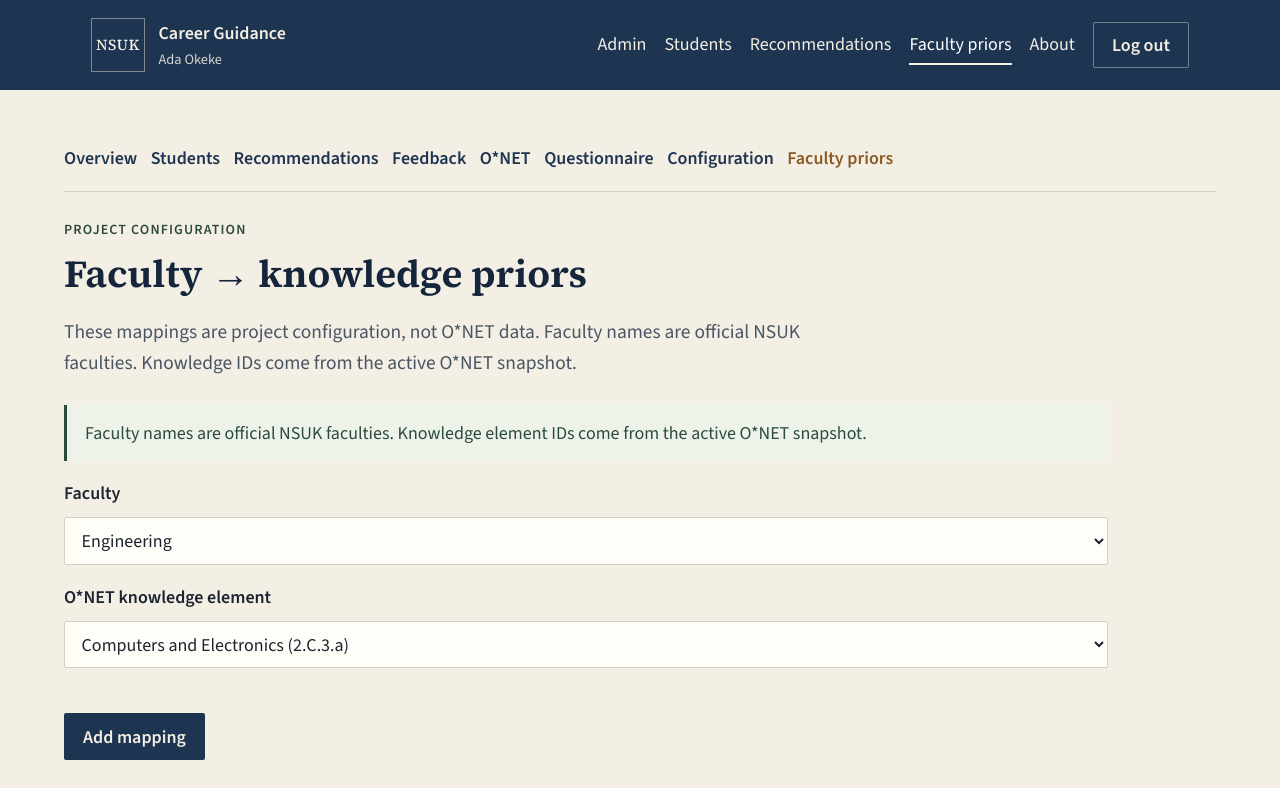
Test case: adds a faculty knowledge mapping from official catalog values
Expected: the heading "Faculty → knowledge priors" is shown, [64, 247, 587, 300]
Select "Natural and Applied Sciences" in the dropdown labelled "Faculty" at (586, 541), box [64, 517, 1108, 565]
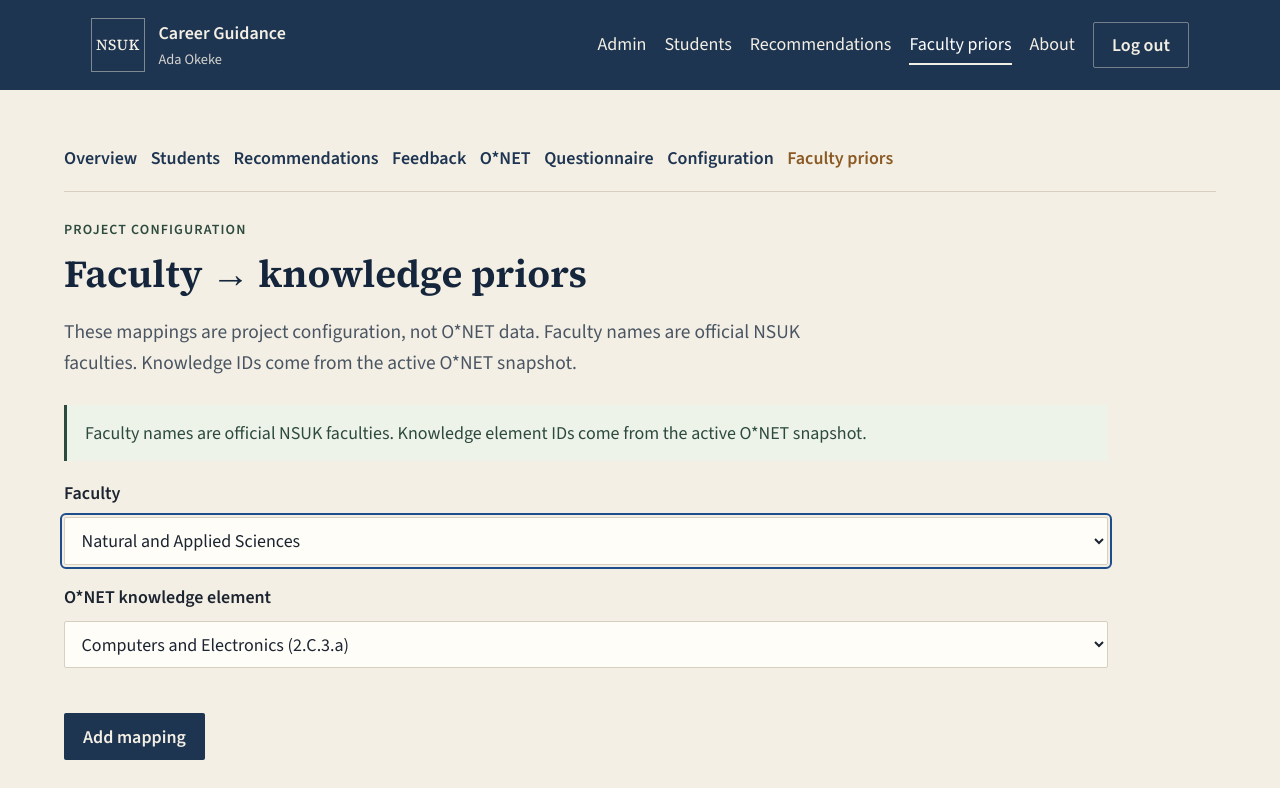
Select "Computers and Electronics (2.C.3.a)" in the dropdown labelled "O*NET knowledge element" at (586, 644), box [64, 621, 1108, 668]
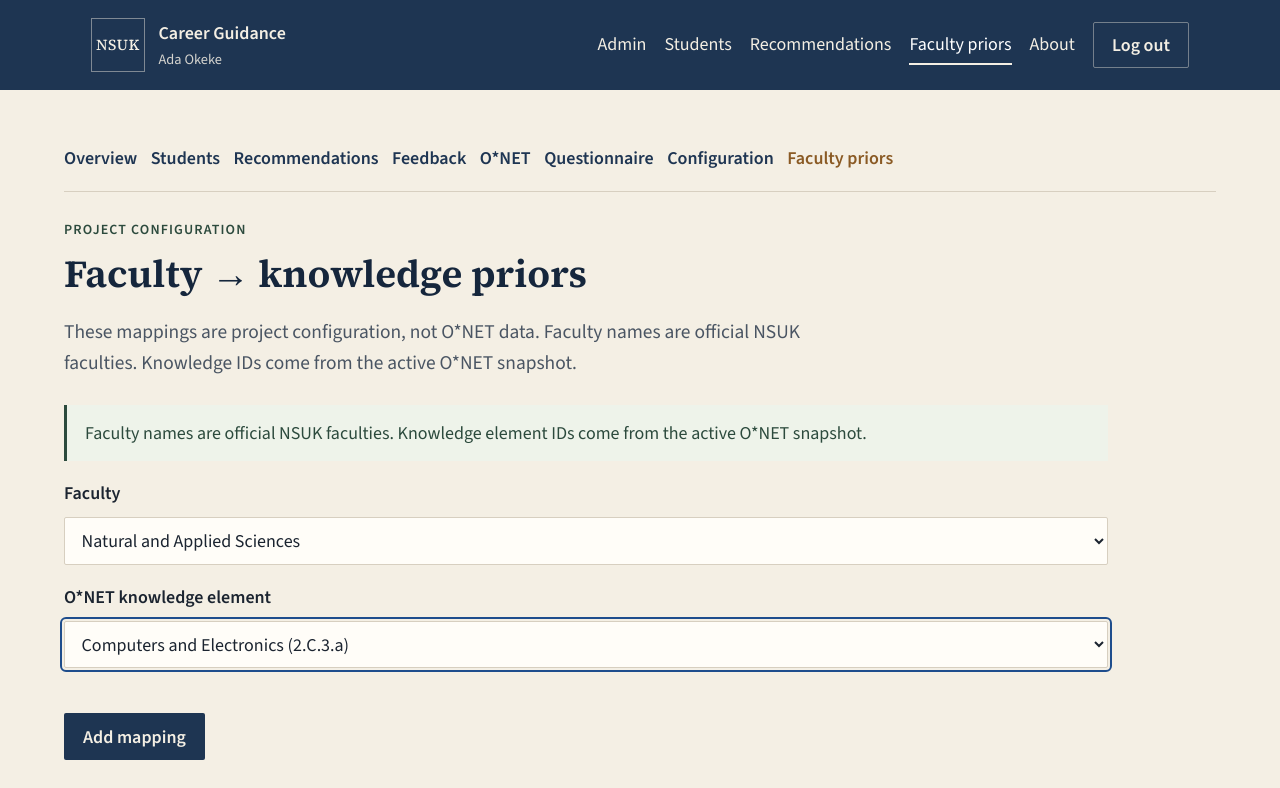
Click the button "Add mapping".
click(134, 737)  # box [64, 713, 205, 760]
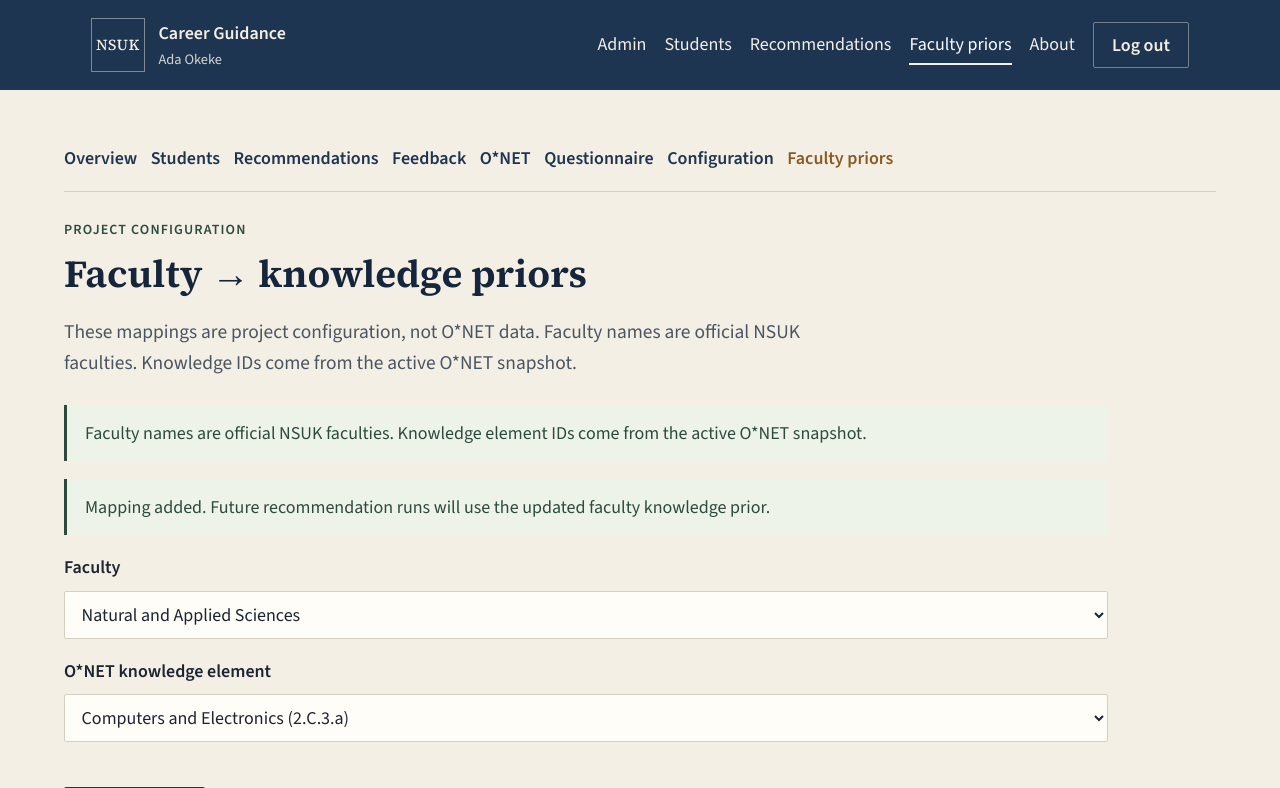
Expected: the text "Mapping added. Future recommendation runs will use the updated faculty knowledge prior." is shown, [85, 495, 770, 519]
